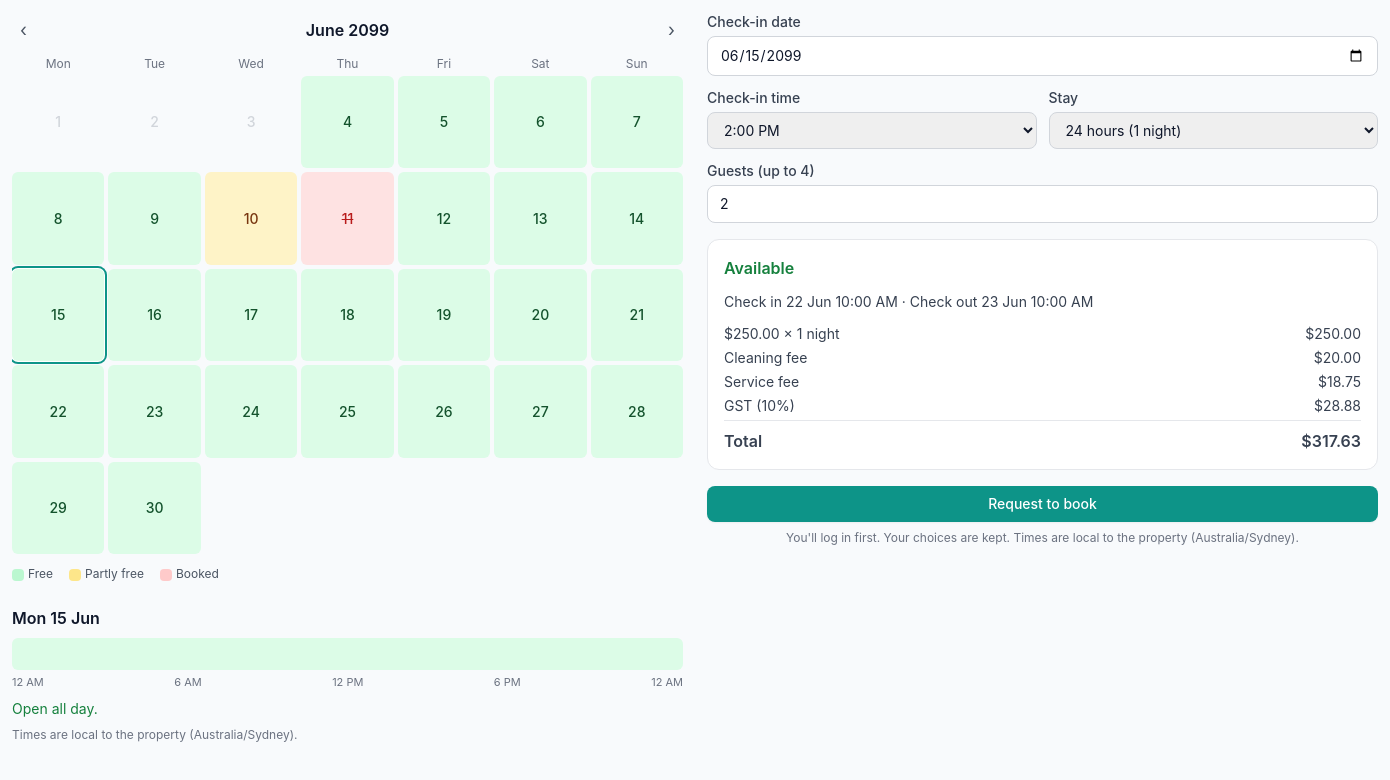
AvailabilityPanel › offers only valid check-in times, stay lengths and guest counts for this unit
Replace the text in the number field labelled "Guests (up to 4)" with "9" at (1042, 204), box [707, 185, 1378, 223]
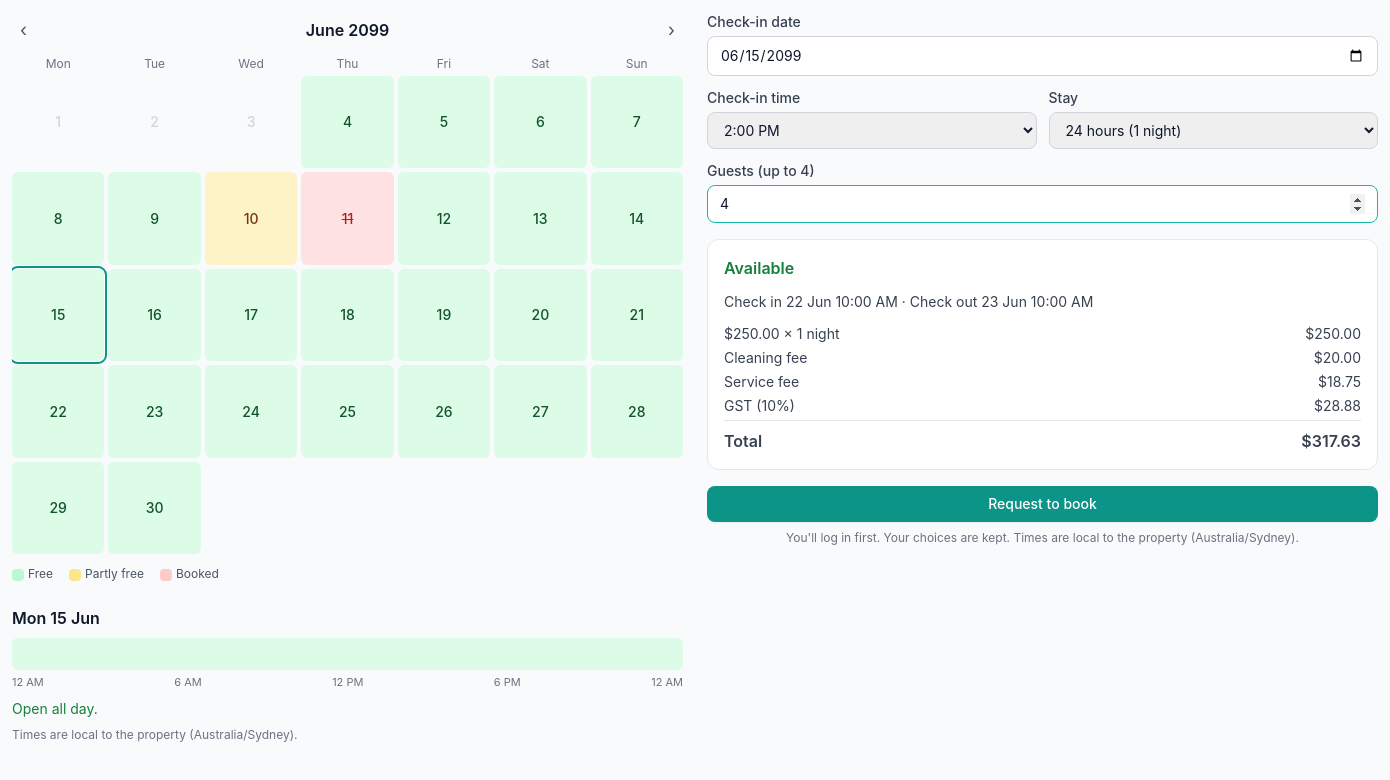
Check: the number field labelled "Guests (up to 4)" holds "4", box [707, 185, 1378, 223]
